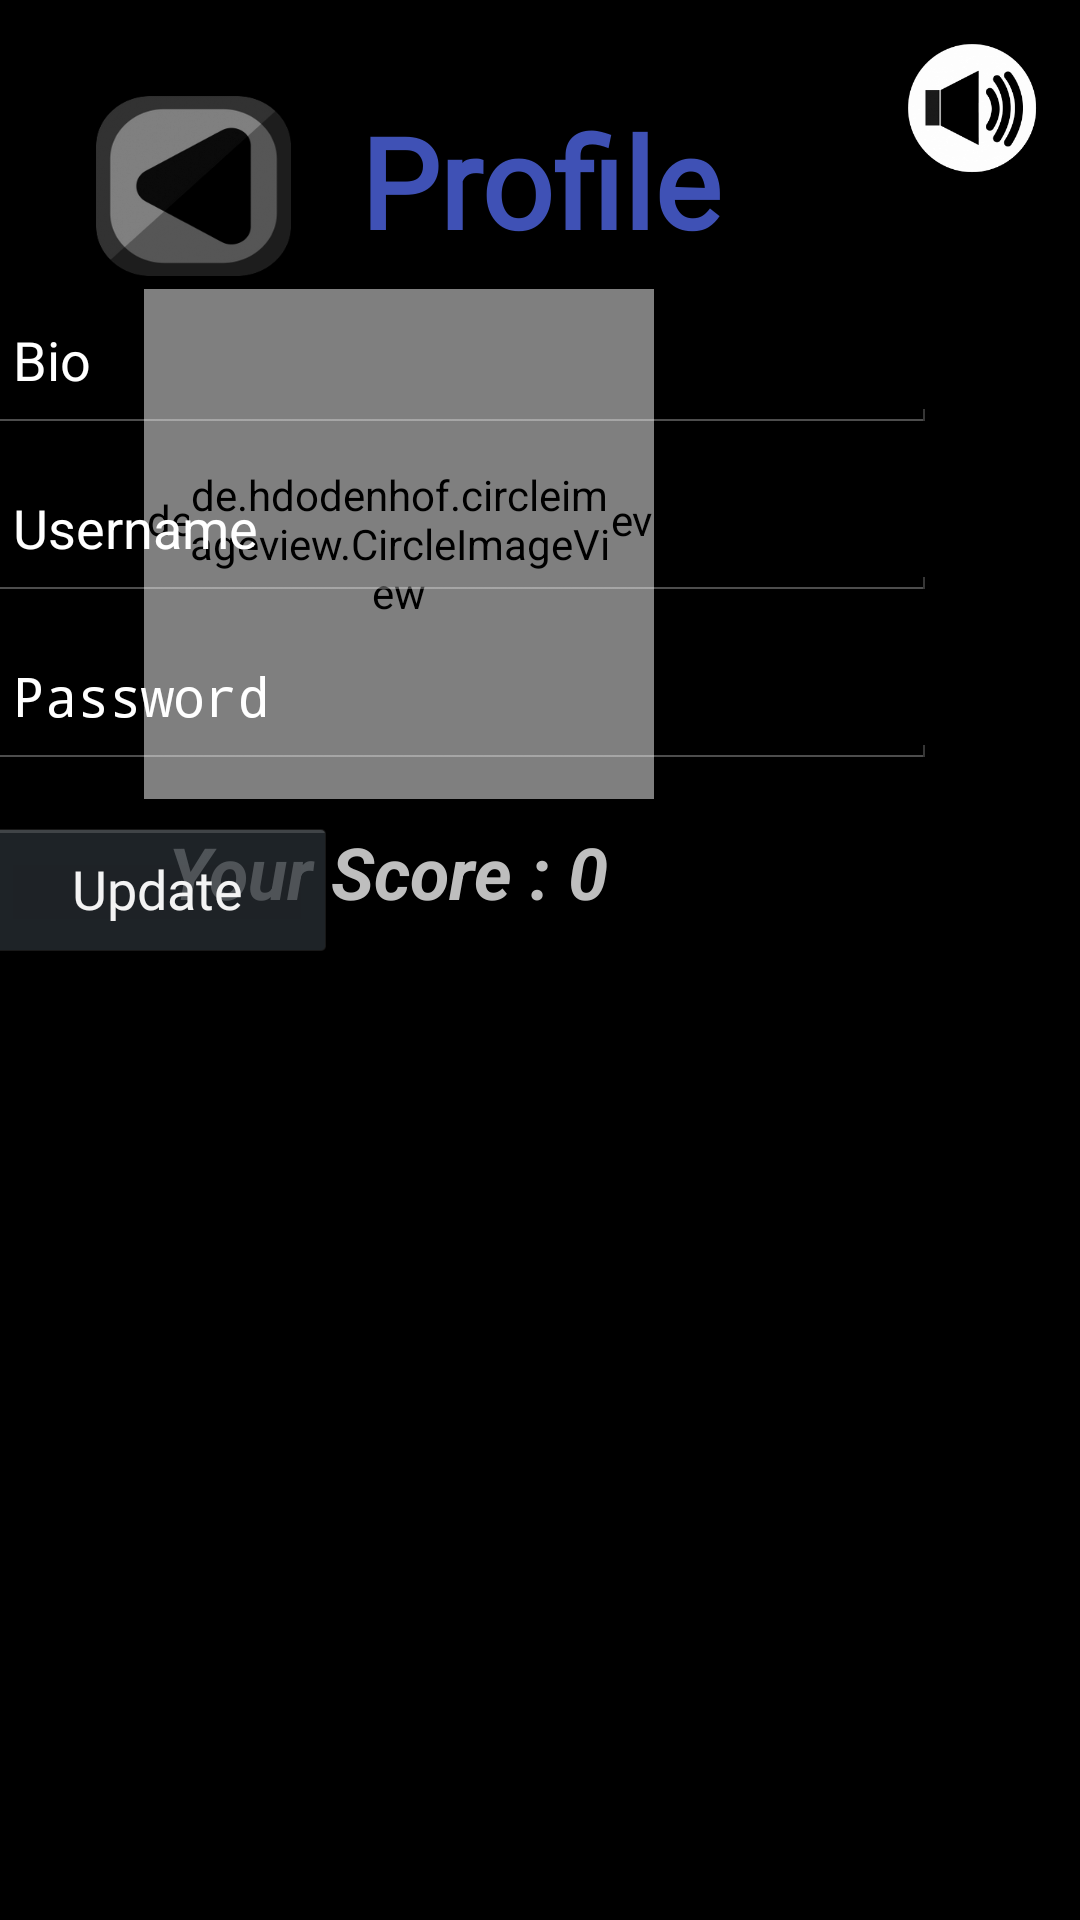

Icons on this 1080×1920 Android screen, each with the point to tap as (x,y):
back res: (193,186)
